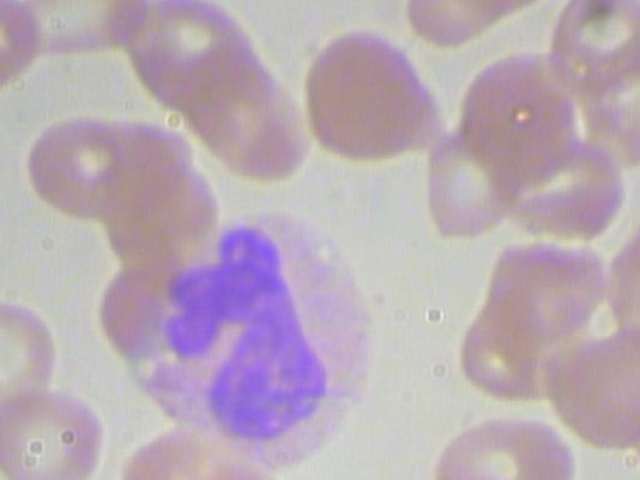RBC: (296, 28, 439, 172), (513, 128, 640, 245), (22, 108, 142, 220), (416, 123, 525, 239), (9, 0, 155, 77), (0, 379, 108, 480), (431, 407, 579, 480), (549, 0, 640, 92), (0, 291, 60, 409), (0, 0, 39, 106), (432, 0, 551, 20)
WBC: (105, 203, 390, 472)
